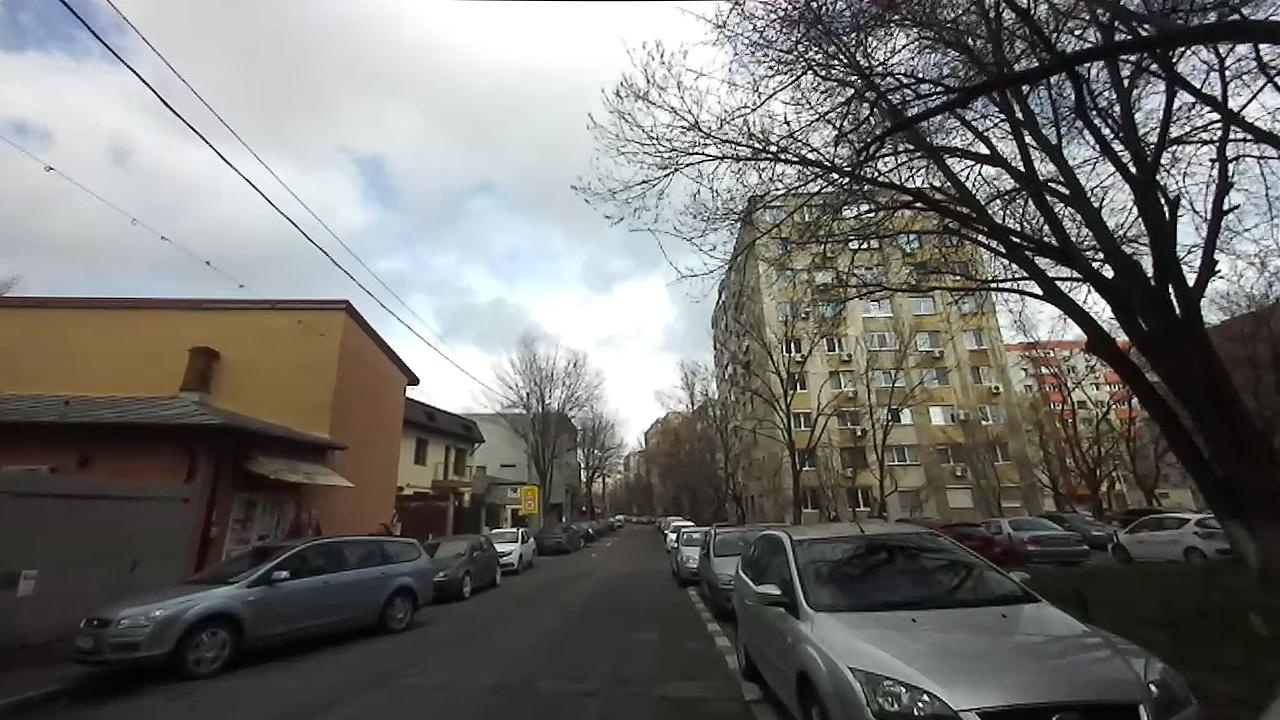pothole: (575, 675, 650, 700)
